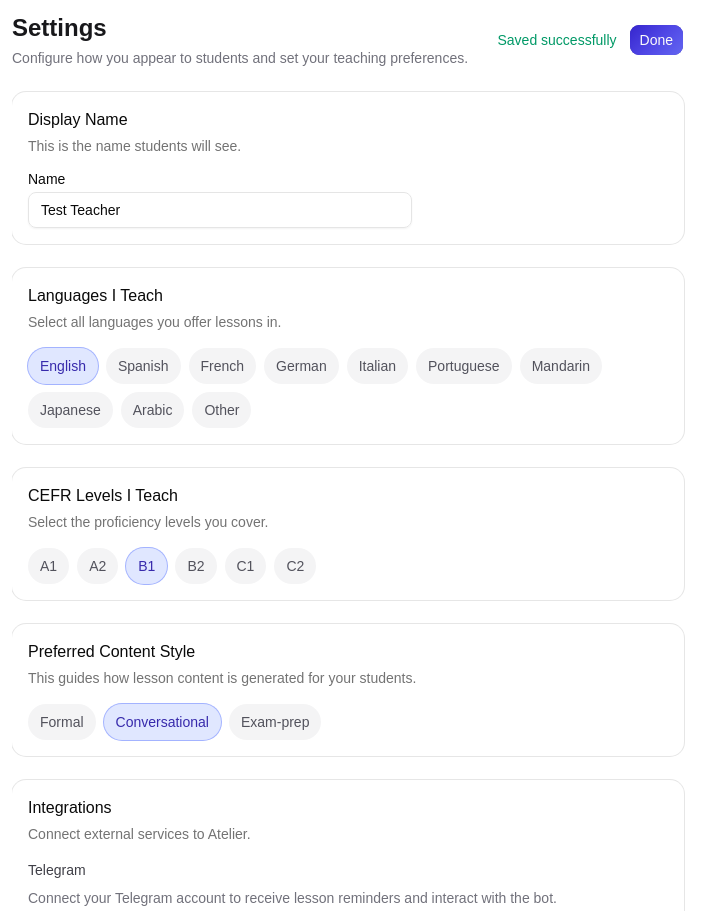
it: Settings validation and toast behavior › shows validation error and resets success state when display name is empty
Check: the text "Saved successfully" is shown, box [498,30,617,50]
Clear the display name
Clear the field labelled "Name" at (220, 210), box [28,192,412,228]
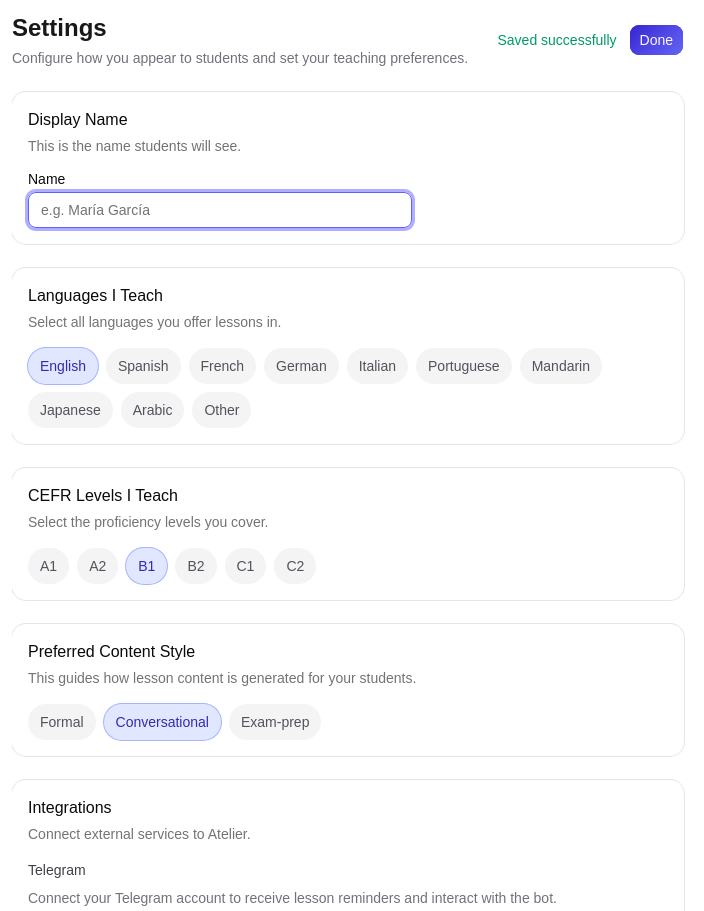
Click the button "Done" at (656, 40), box [628,24,684,56]
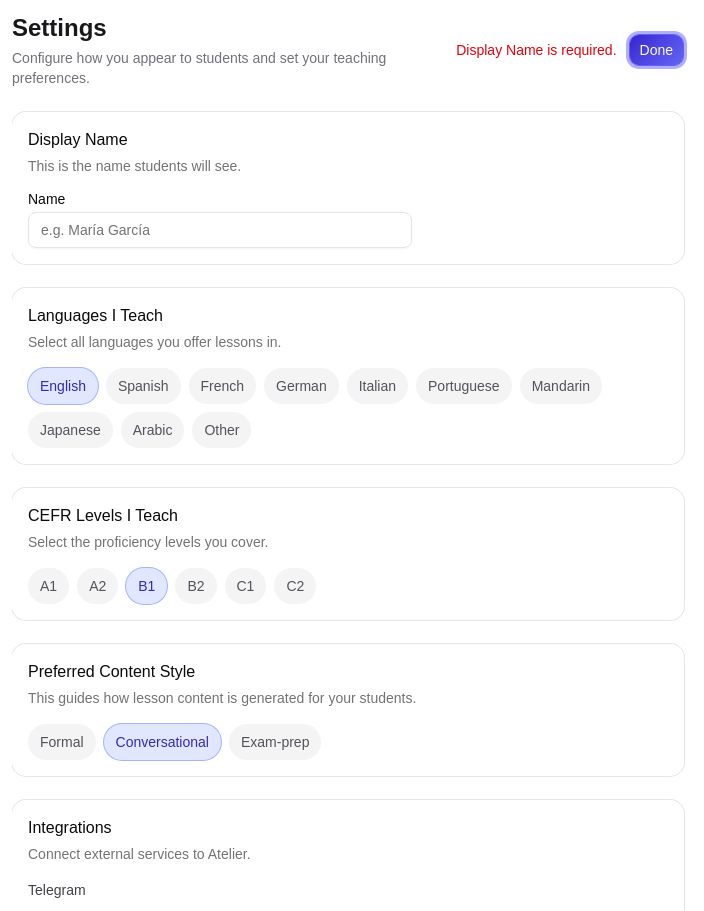
Check: the text with test id "validation-error" reads "Display Name is required.", box [456,42,616,58]
Check: the text with test id "save-success" is gone
